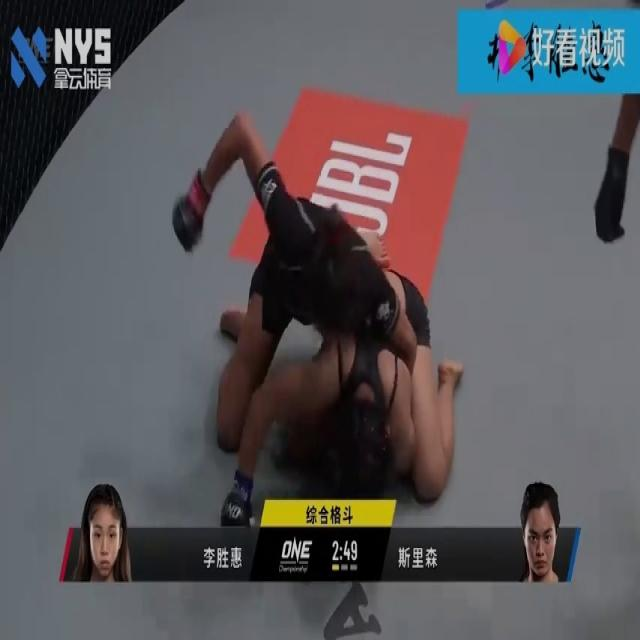fight: (174, 84, 475, 525)
